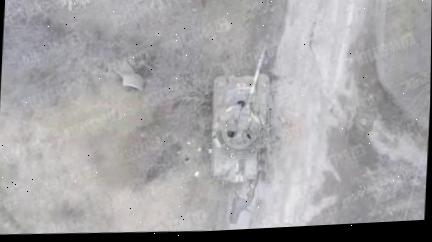tank: (207, 31, 273, 187)
